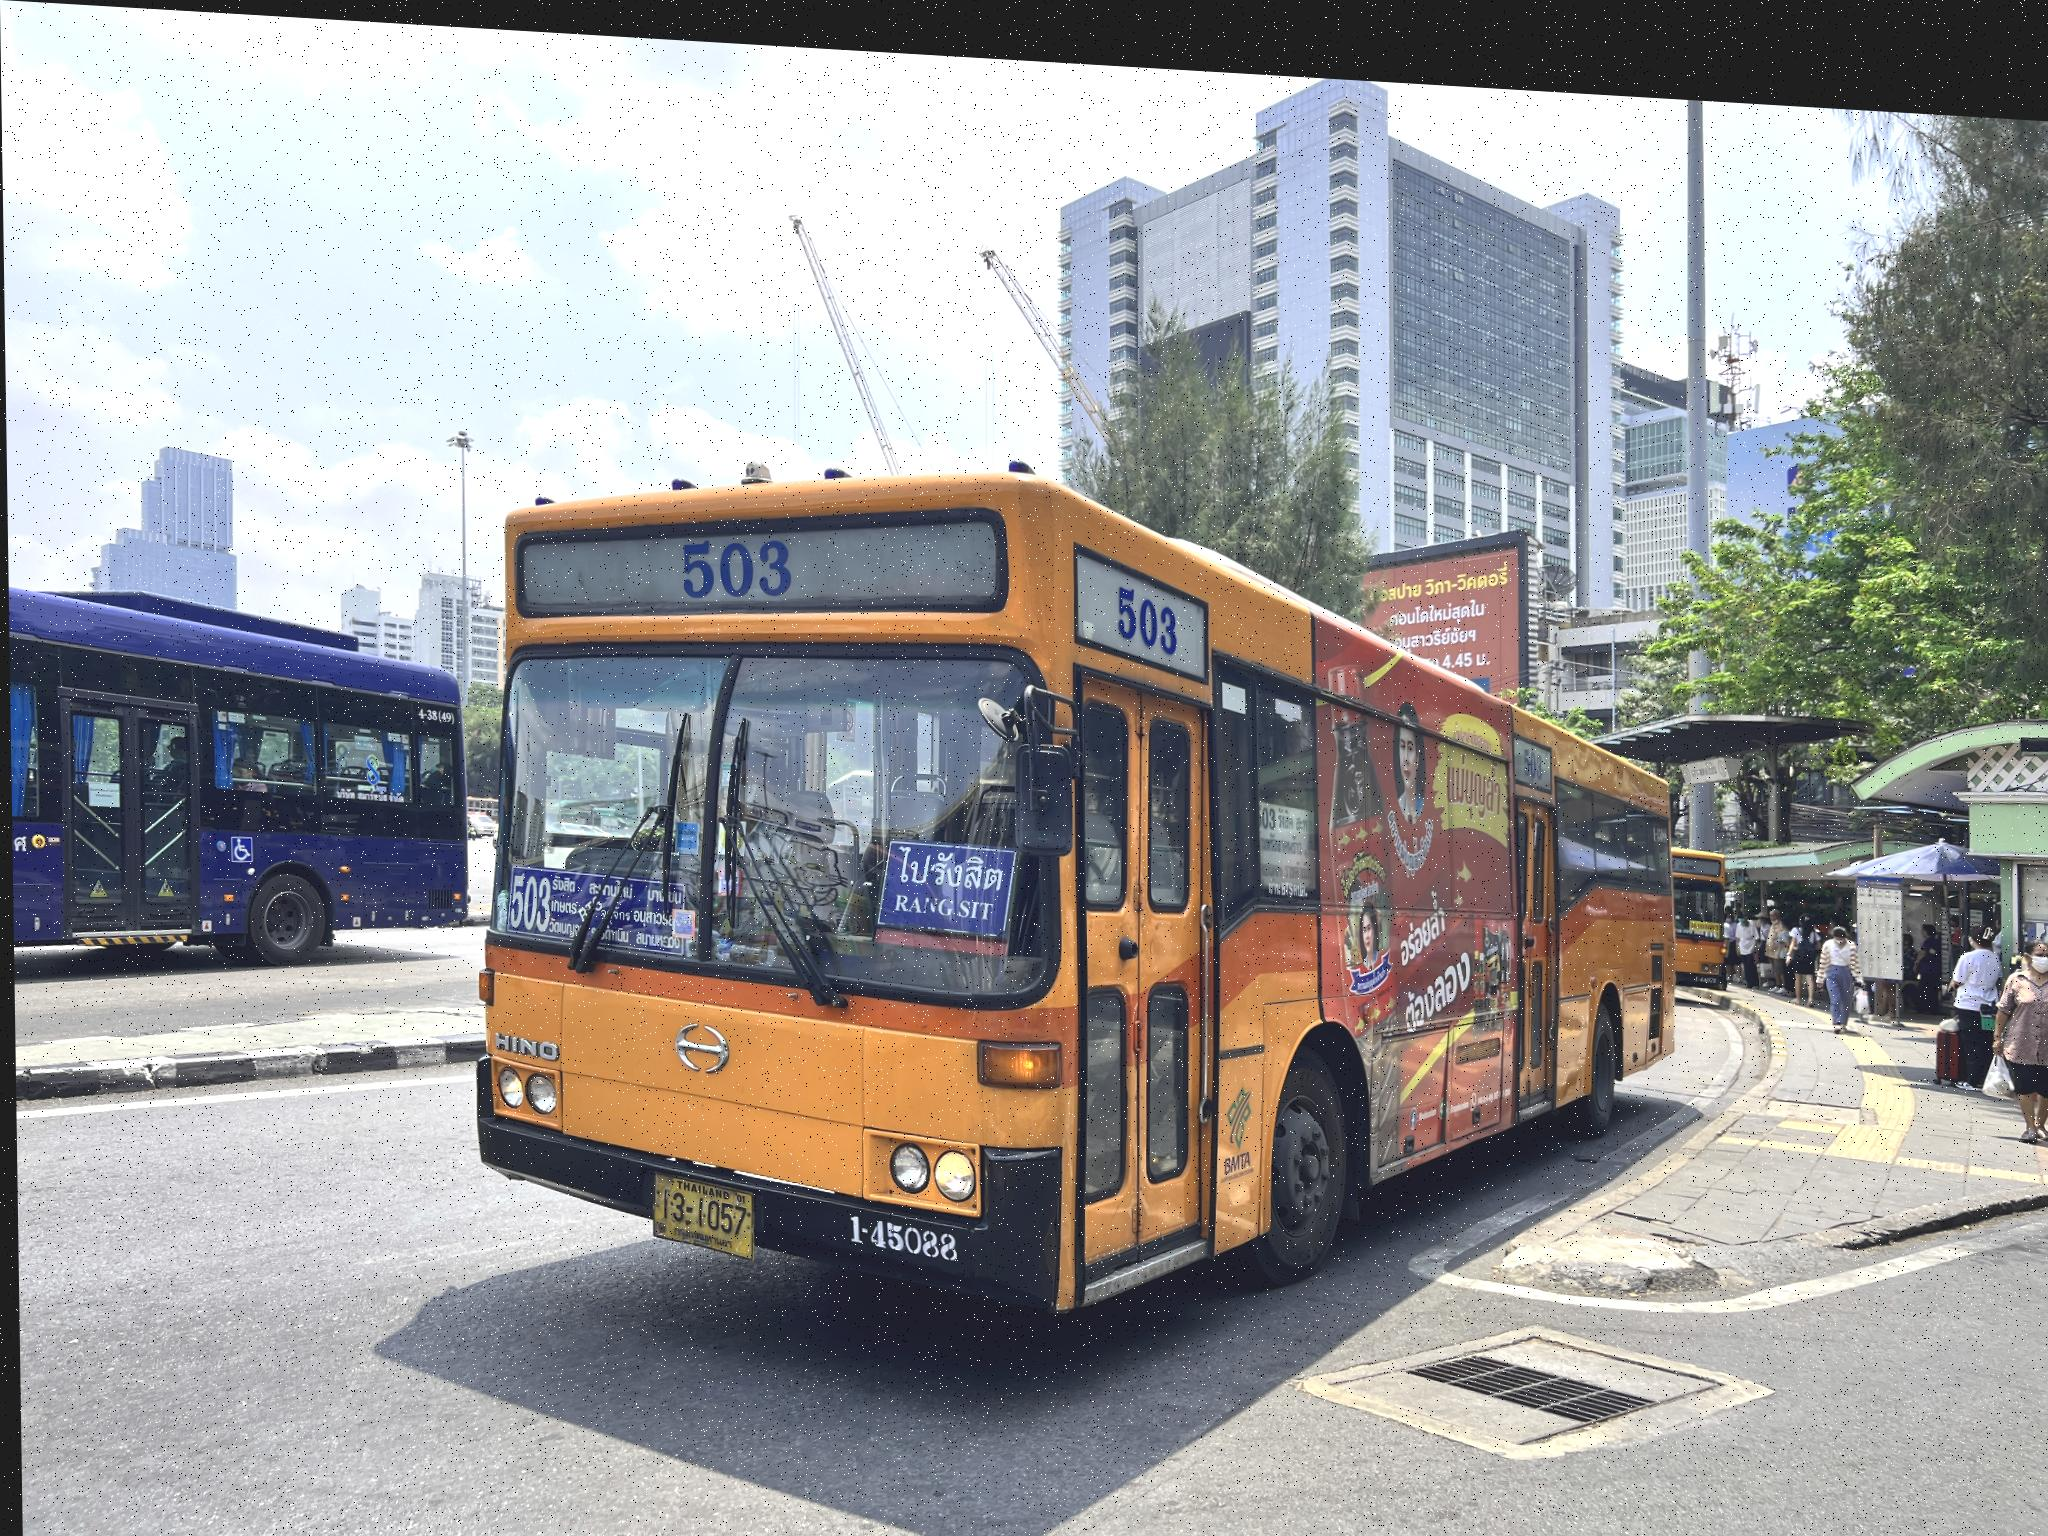BMTA-bus: (468, 458, 1677, 1309)
Bus Line Number: (666, 524, 803, 605)
Bus Side Number: (830, 1192, 971, 1257)
Destination Sign: (872, 833, 1013, 928)
TSB-Bus: (6, 591, 479, 965)
